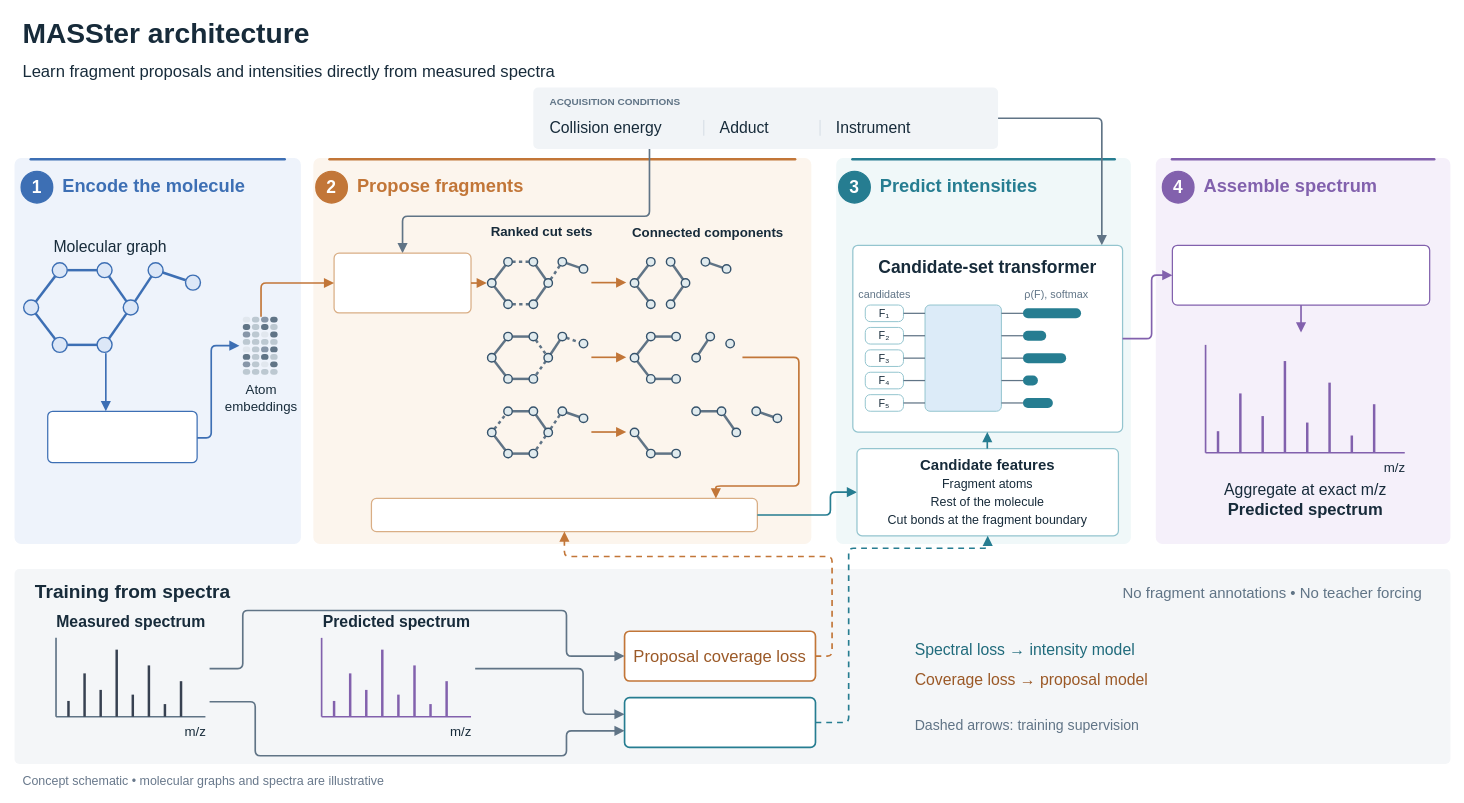
This 1464x803 diagram has some shape labels left out. Each missing label, with the centre of its shape:
"Bond-cut probabilities" belongs at point (402, 282).
"Ion channels Charge / hydrogen shifts" belongs at point (1300, 274).
"Merge duplicate fragments into unique candidates" belongs at point (564, 514).
"Molecular encoder" belongs at point (122, 436).
"Self- attention over all candidates" belongs at point (962, 357).
"Spectral loss" belongs at point (719, 722).
